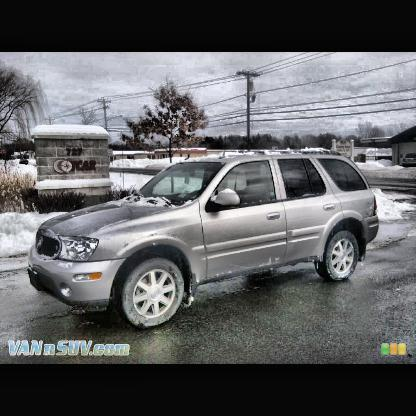Buick Rainier SUV 2007: (26, 150, 382, 328)
